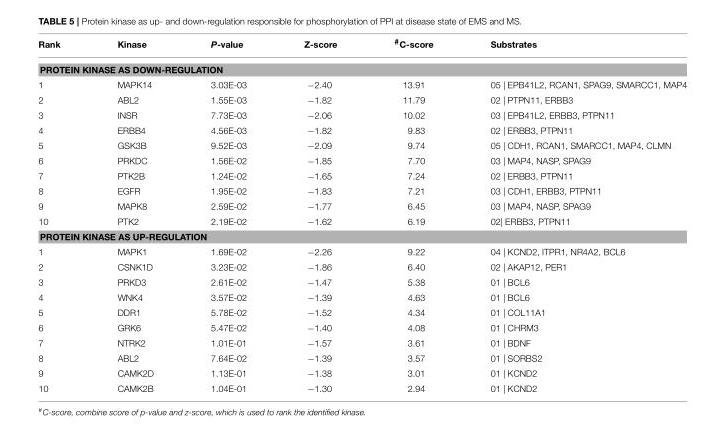table: (37, 37, 686, 392)
table column: (461, 37, 686, 392), (364, 37, 461, 392), (88, 37, 181, 392), (181, 37, 274, 392), (274, 37, 364, 392), (37, 37, 88, 392)
table column header: (37, 37, 686, 56)
table projected row header: (37, 56, 686, 77), (37, 228, 686, 244)
table row: (37, 56, 686, 77), (37, 37, 686, 56), (37, 137, 686, 153), (37, 228, 686, 244), (37, 304, 686, 320), (37, 77, 686, 92), (37, 92, 686, 107), (37, 107, 686, 122), (37, 122, 686, 137), (37, 153, 686, 168), (37, 168, 686, 183), (37, 183, 686, 198), (37, 198, 686, 213), (37, 213, 686, 228), (37, 244, 686, 259), (37, 259, 686, 274), (37, 274, 686, 289), (37, 289, 686, 304), (37, 320, 686, 335), (37, 335, 686, 350), (37, 350, 686, 365), (37, 365, 686, 380), (37, 380, 686, 392)
